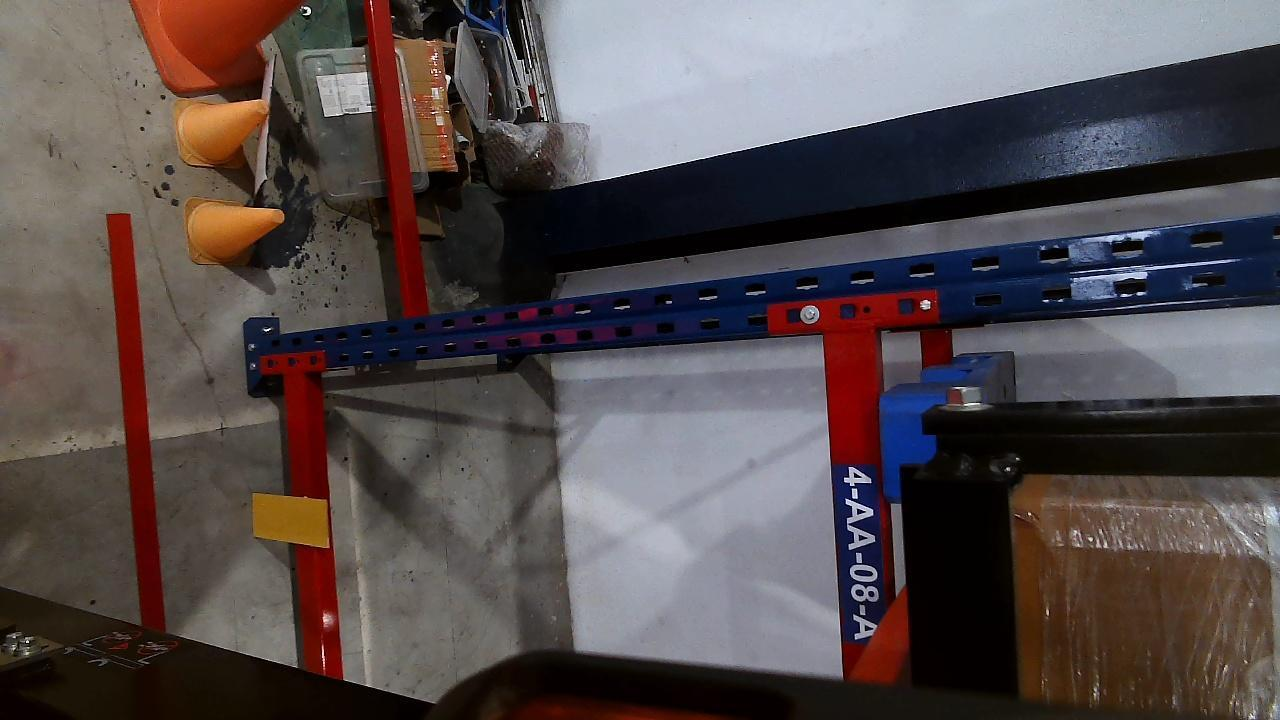red_line: (107, 212, 164, 628)
